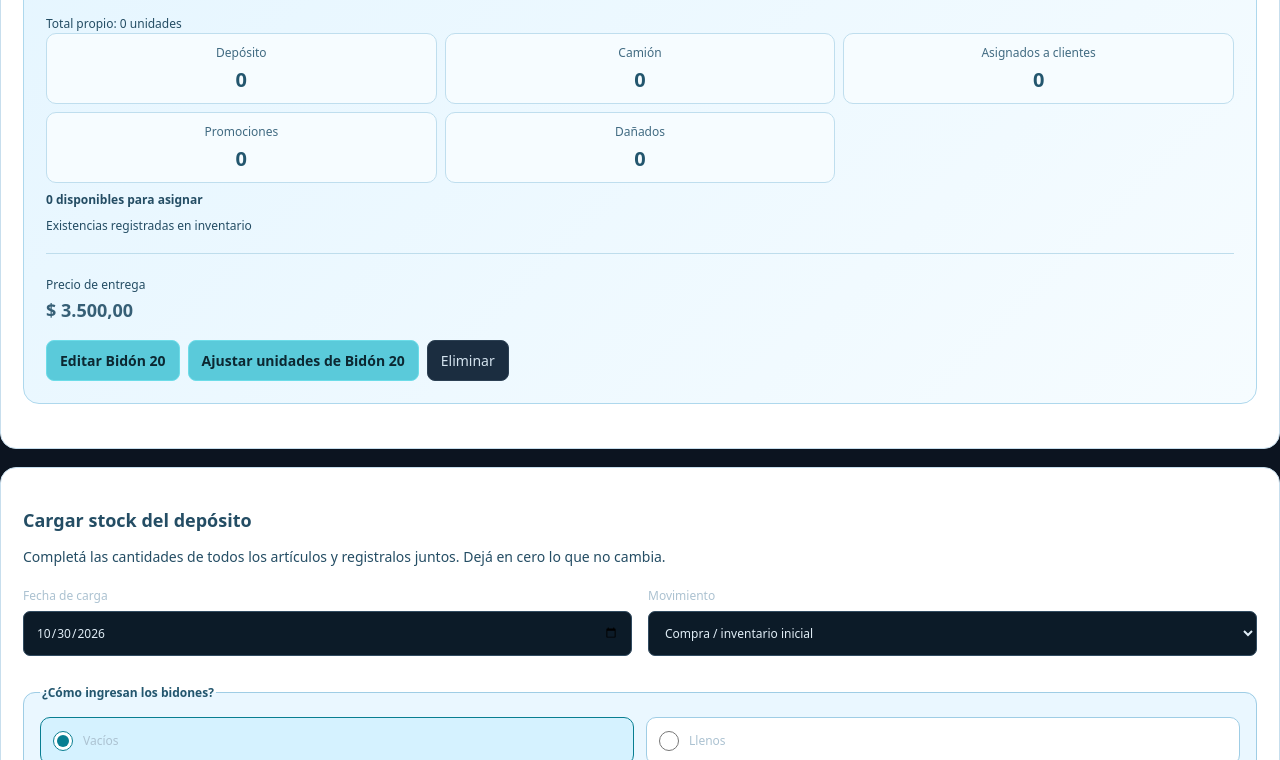
Test: inventario conectado del jefe › elimina un bidón sin existencias de activos conservando su registro
The image size is (1280, 760).
(page scrolled)
Step 1. Click the button with aria-label "Eliminar Bidón 20" → point(468, 361), box [427,340,509,381]
(page scrolled)
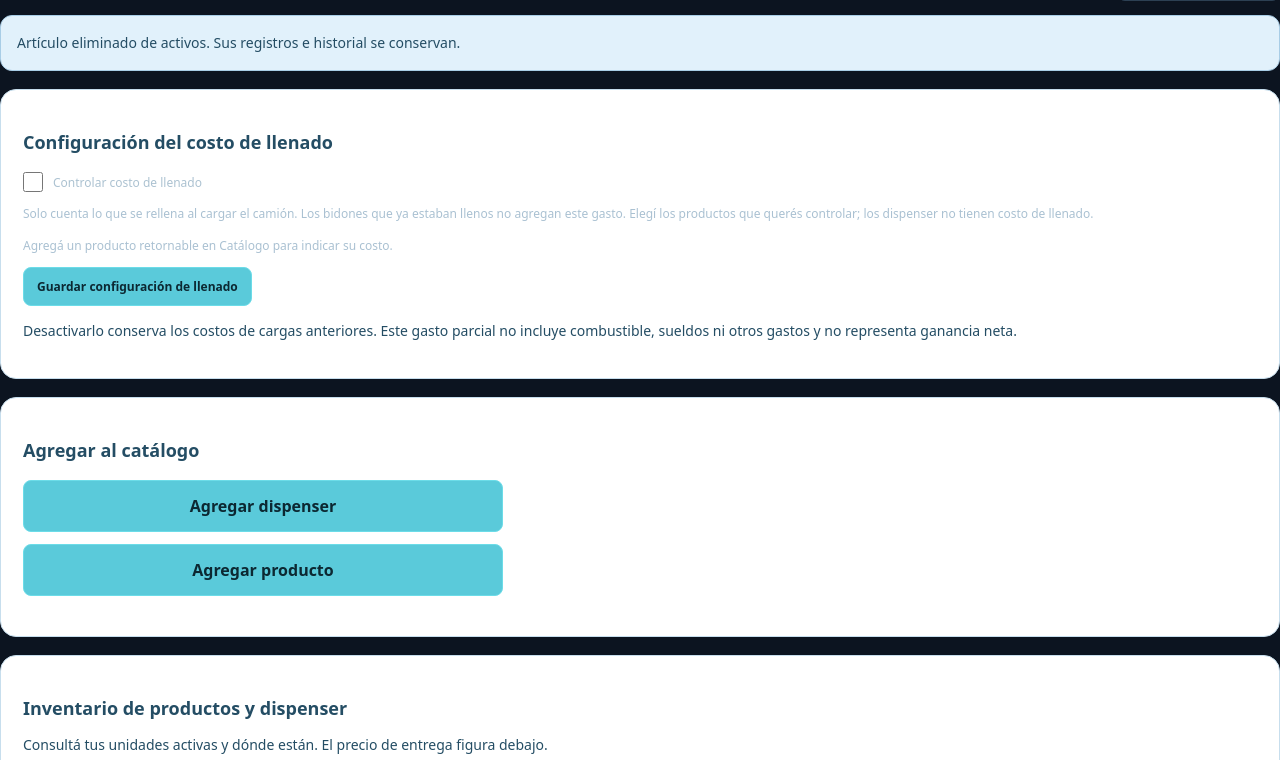
Expected: the text "Artículo eliminado de activos. Sus registros e historial se conservan." is shown, [0,15,1279,71]
Expected: the button "Bidón 20" is gone
